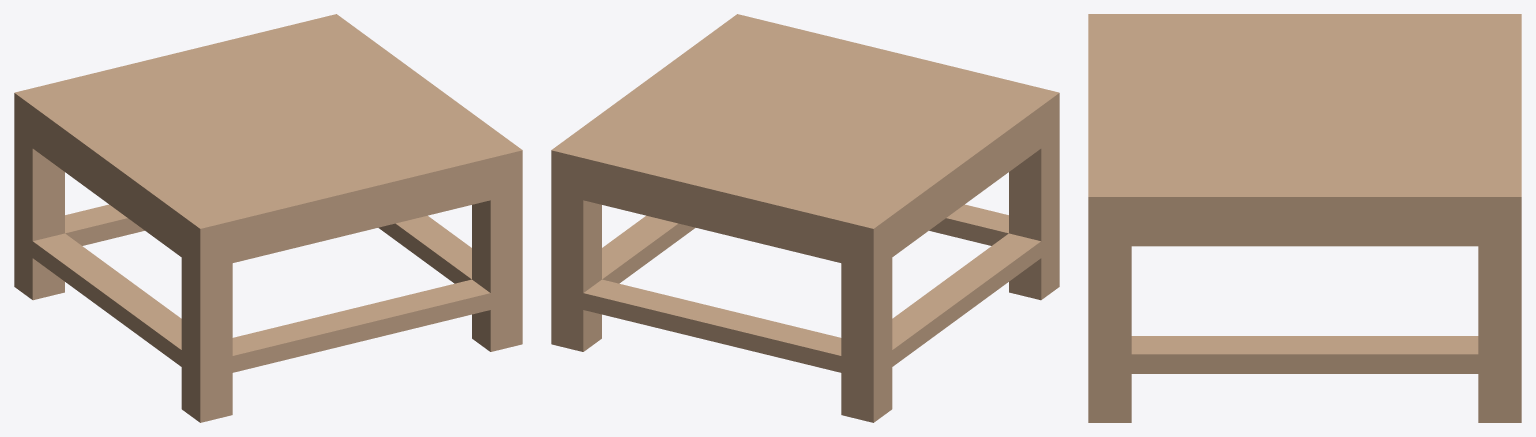
Rendered from tableCoffeeSquare.glb.
3 views of the same model, side by side, from view 1: azimuth 30°, elevation 25°; view 2: azimuth 150°, elevation 25°; view 3: azimuth 270°, elevation 25° (orthographic). The views are drawn at different scales.
Parts seen in each view (by area): view 1: tableCoffeeSquare; view 2: tableCoffeeSquare; view 3: tableCoffeeSquare.
Boxes of the visible parts, x1,y1,x2,y2 form: tableCoffeeSquare: (14,14,522,422); tableCoffeeSquare: (551,14,1059,422); tableCoffeeSquare: (1088,14,1521,422).
Bounding box in the file's own units: 0.4 × 0.23 × 0.4.
